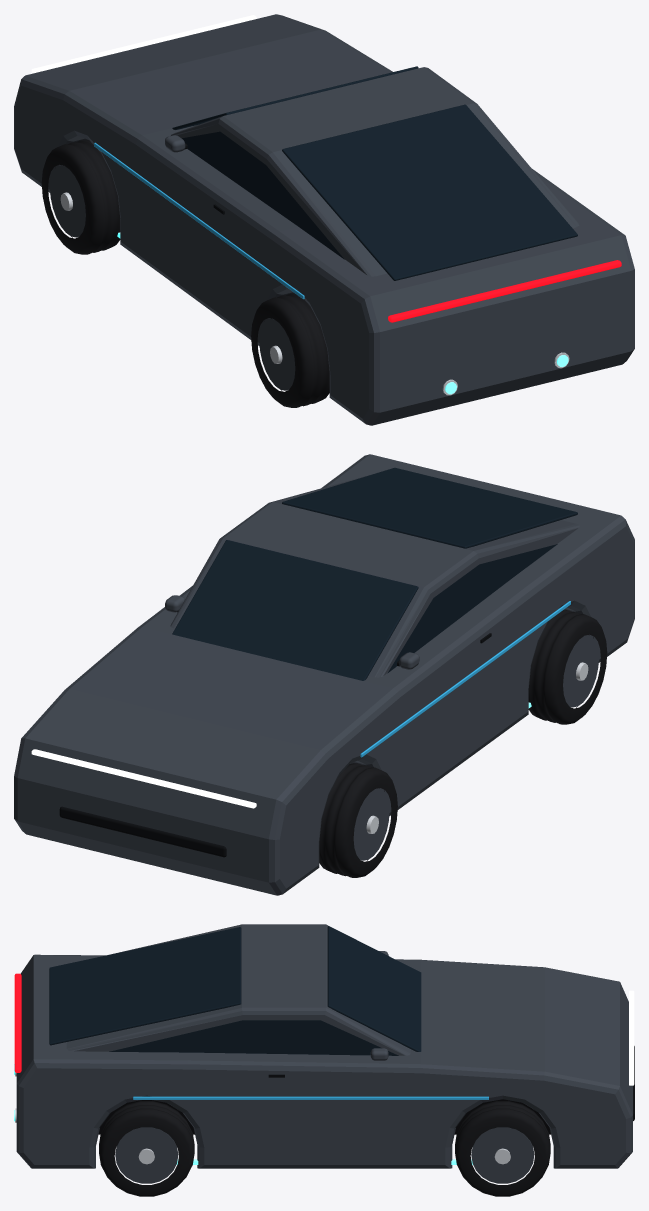
File: volt-arrow.glb
3 renders of one model, top to bottom at view 1: azimuth 30°, elevation 25°; view 2: azimuth 150°, elevation 25°; view 3: azimuth 270°, elevation 25°, orthographic. The views are drawn at different scales.
Parts seen in each view (by area): view 1: Body, RearWindow, Cabin, Tire (×2), SideGlass, AeroCover (×2), TailLight, LightBar, AccentLine, Windscreen; view 2: Body, Windscreen, Cabin, RearWindow, Tire (×2), SideGlass, AeroCover (×2), LowerIntake, LightBar, AccentLine; view 3: Body, RearWindow, Cabin, Tire (×2), Windscreen, SideGlass, AeroCover (×2), AccentLine, TailLight, LightBar.
Boxes of the visible parts, x1,y1,x2,y2 form: Body: (14,14,634,425); RearWindow: (282,104,577,280); Cabin: (171,67,579,276); Tire (×2): (41,140,329,407); SideGlass: (182,131,344,259); AeroCover (×2): (50,165,295,390); TailLight: (388,260,621,322); LightBar: (31,15,256,73); AccentLine: (94,142,304,299); Windscreen: (172,66,418,129); Body: (14,454,634,895); Windscreen: (172,540,418,680); Cabin: (170,475,579,677); RearWindow: (282,467,577,548); Tire (×2): (319,610,607,877); SideGlass: (387,544,557,673); AeroCover (×2): (353,635,598,860); LowerIntake: (59,806,226,857); LightBar: (31,749,256,808); AccentLine: (360,601,570,757); Body: (16,954,632,1168); RearWindow: (49,927,241,1045); Cabin: (66,924,410,1055); Tire (×2): (99,1101,550,1196); Windscreen: (327,926,421,1051); SideGlass: (109,1020,398,1055); AeroCover (×2): (115,1127,534,1183); AccentLine: (133,1096,488,1099); TailLight: (14,973,21,1072); LightBar: (629,990,634,1085).
Size of the model in its own units: 2.22 by 1.38 by 4.54.
